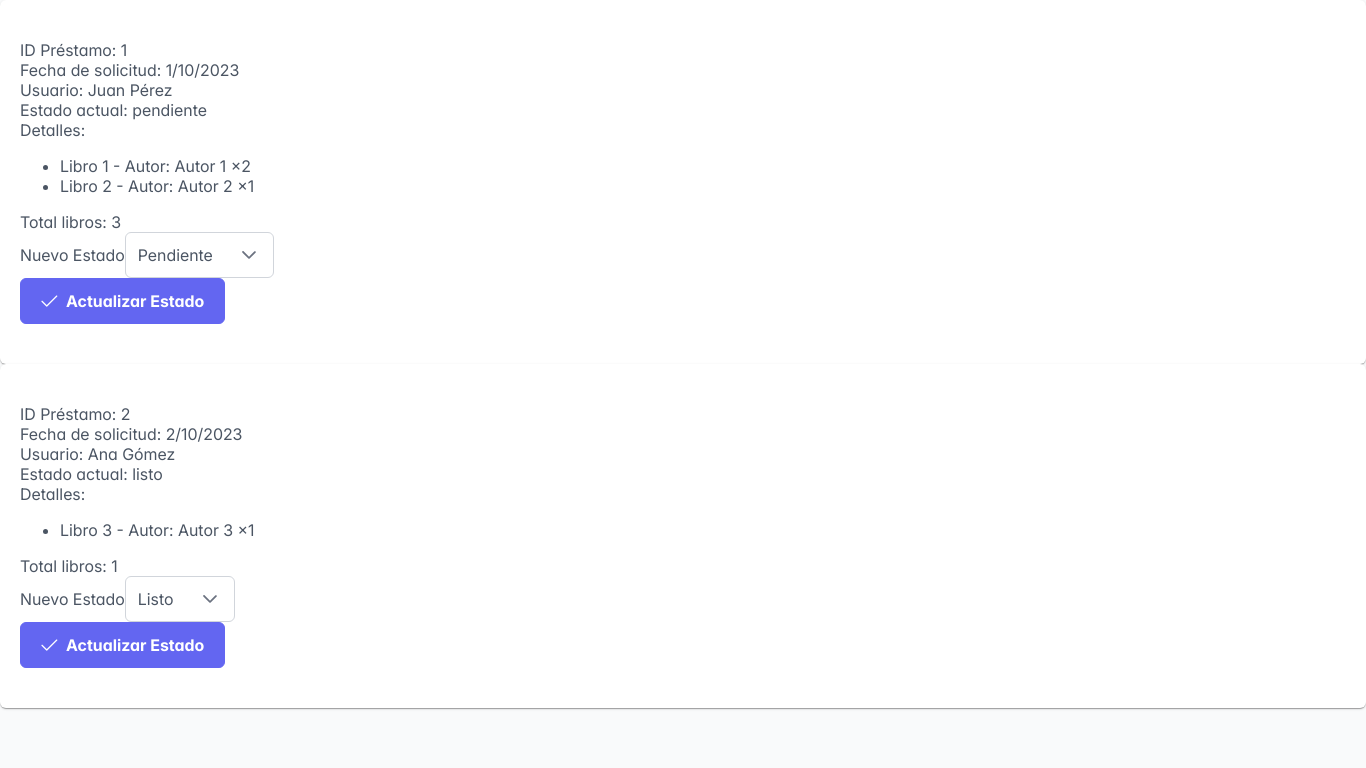
Test: UpdateStatus Component › changes status of specific loan
Expected: the text "ID Préstamo: 1" is shown, [20,40,127,60]
Click the button named "Seleccionar estado" below "Libro 2".
click(249, 255)  # box [241,247,257,263]
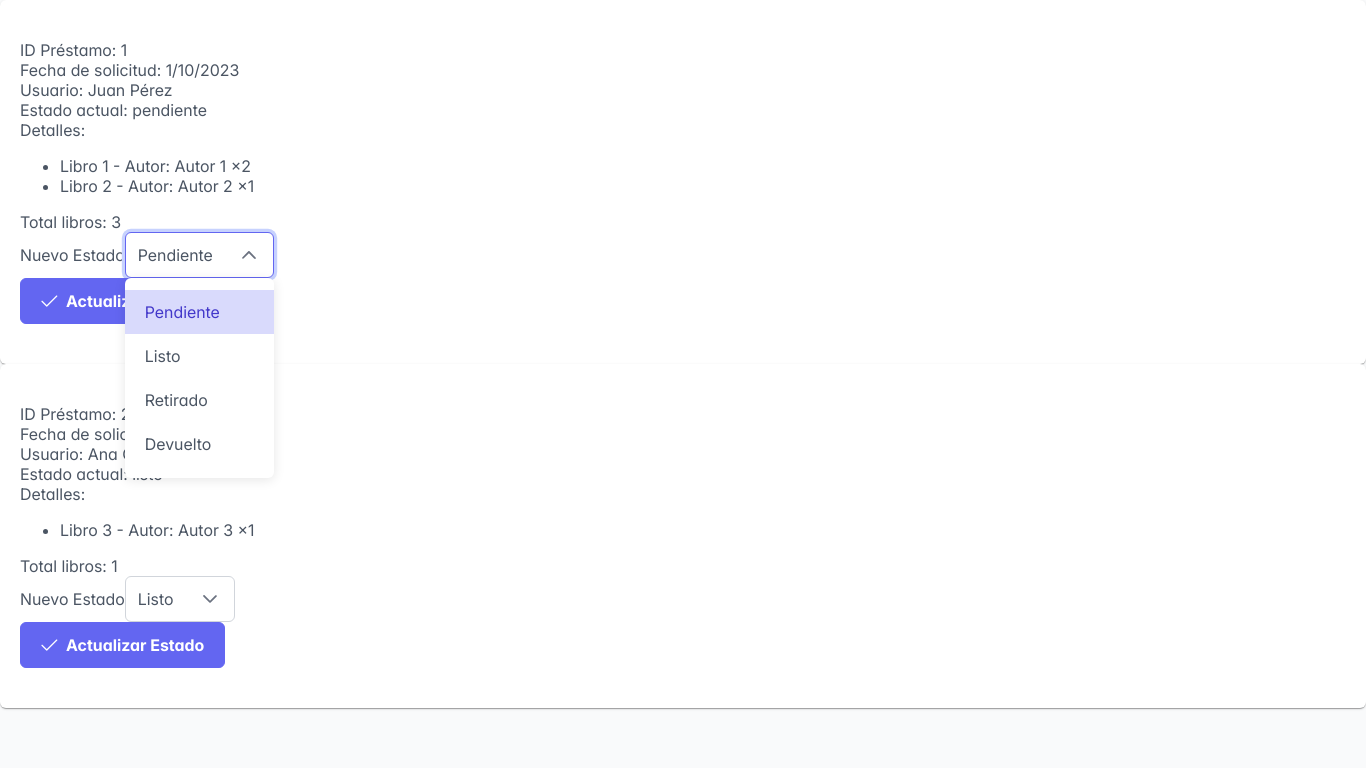
Click the option "Listo".
click(163, 356)  # box [145,346,180,366]
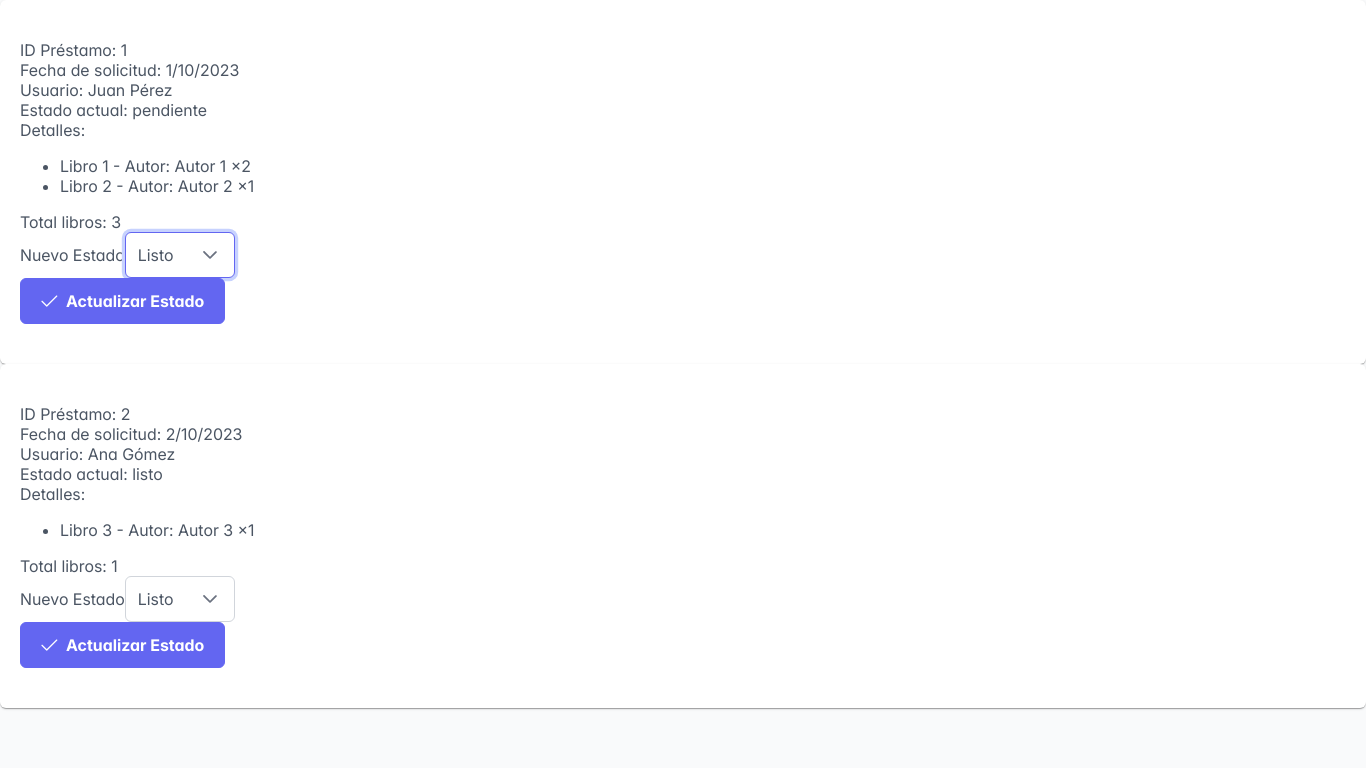
Click the button "Actualizar Estado" below "Libro 2".
click(123, 301)  # box [20,278,225,324]
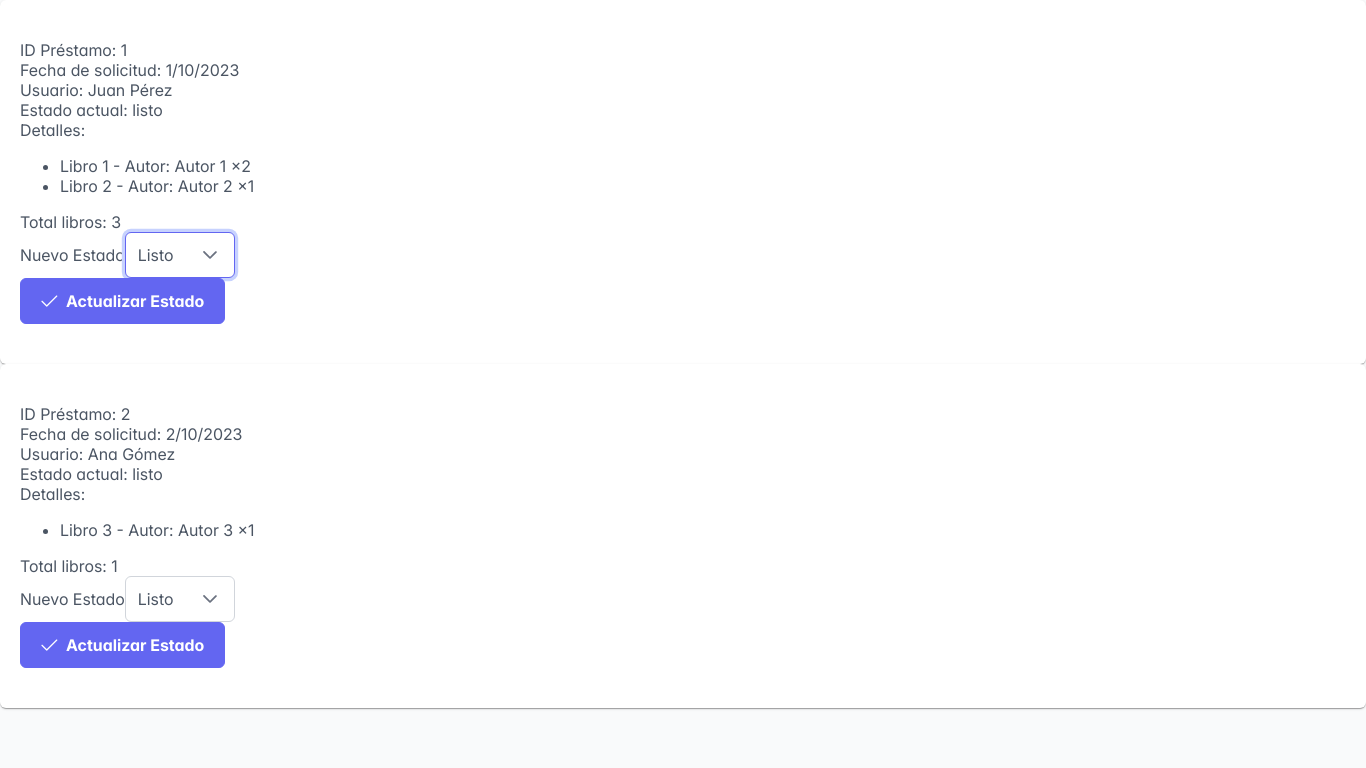
Expected: the text "Estado actual: listo" below "Juan Pérez" is shown, [20,100,163,120]
